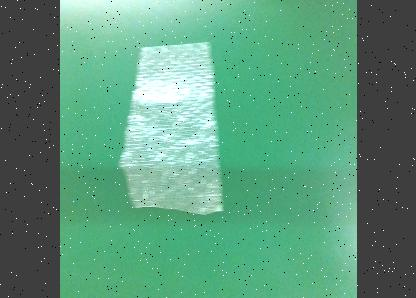Others: (119, 37, 228, 217)
